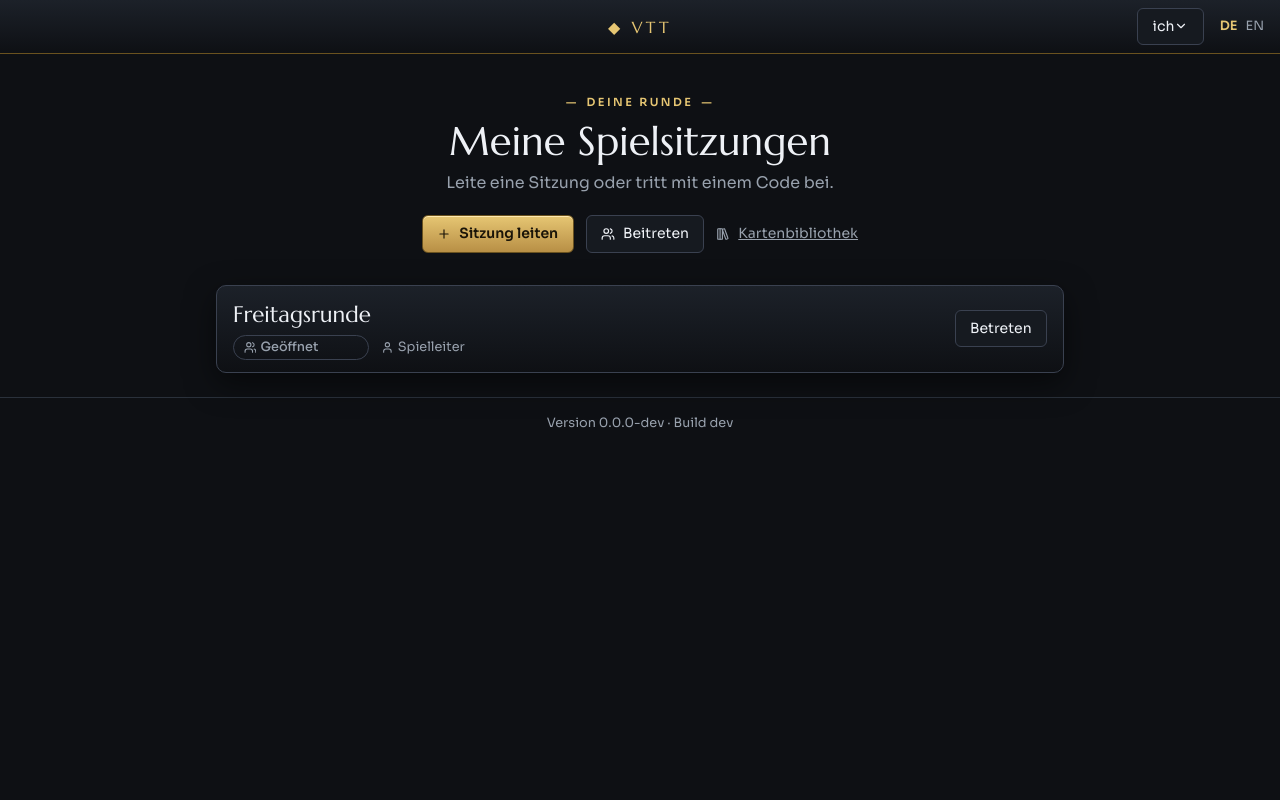
Test: Bereich markieren sammelt die Auswahl
Expected: the heading "Freitagsrunde" is shown, top-left (233, 300), bottom-right (371, 328)
Step 1. Click the button "Betreten" → [1001, 328], box top-left (955, 310), bottom-right (1047, 347)
(page scrolled)
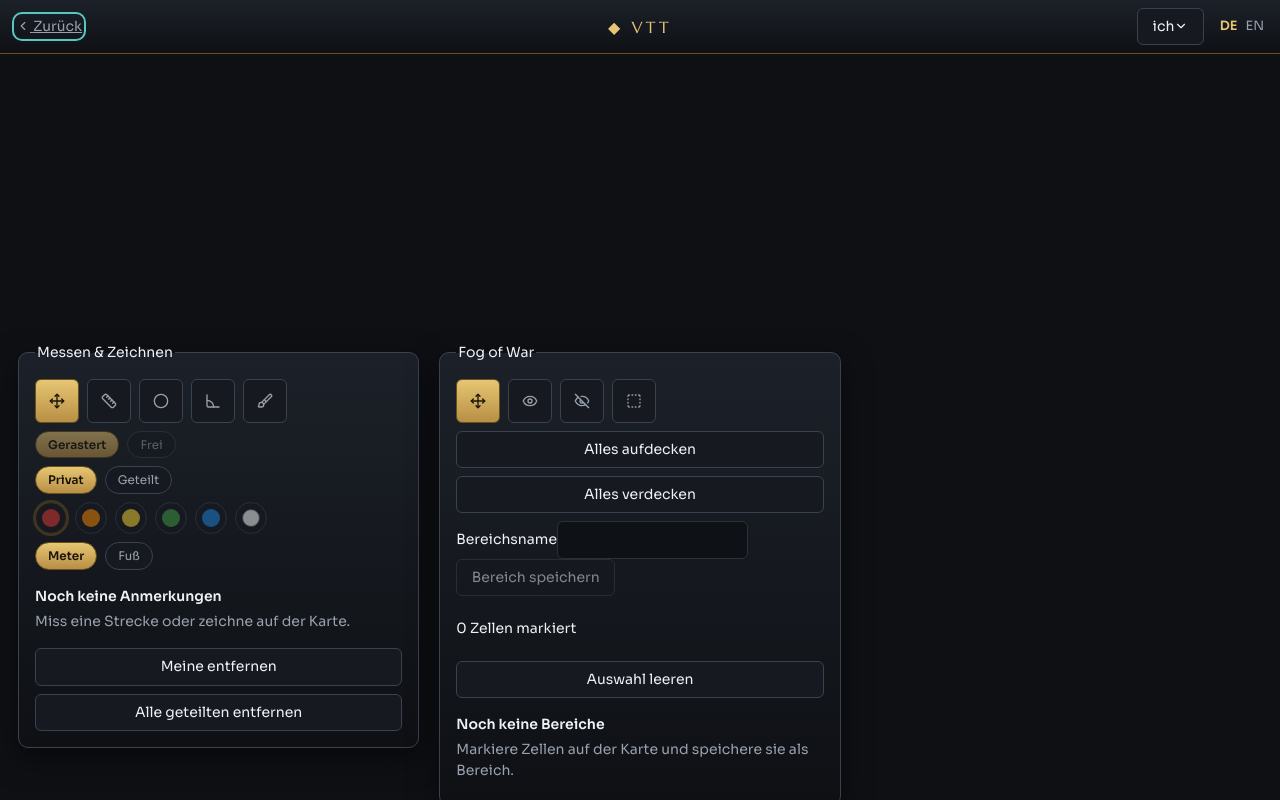
Step 2. Click the button named "Bereich markieren" → [634, 401], box top-left (612, 379), bottom-right (656, 423)
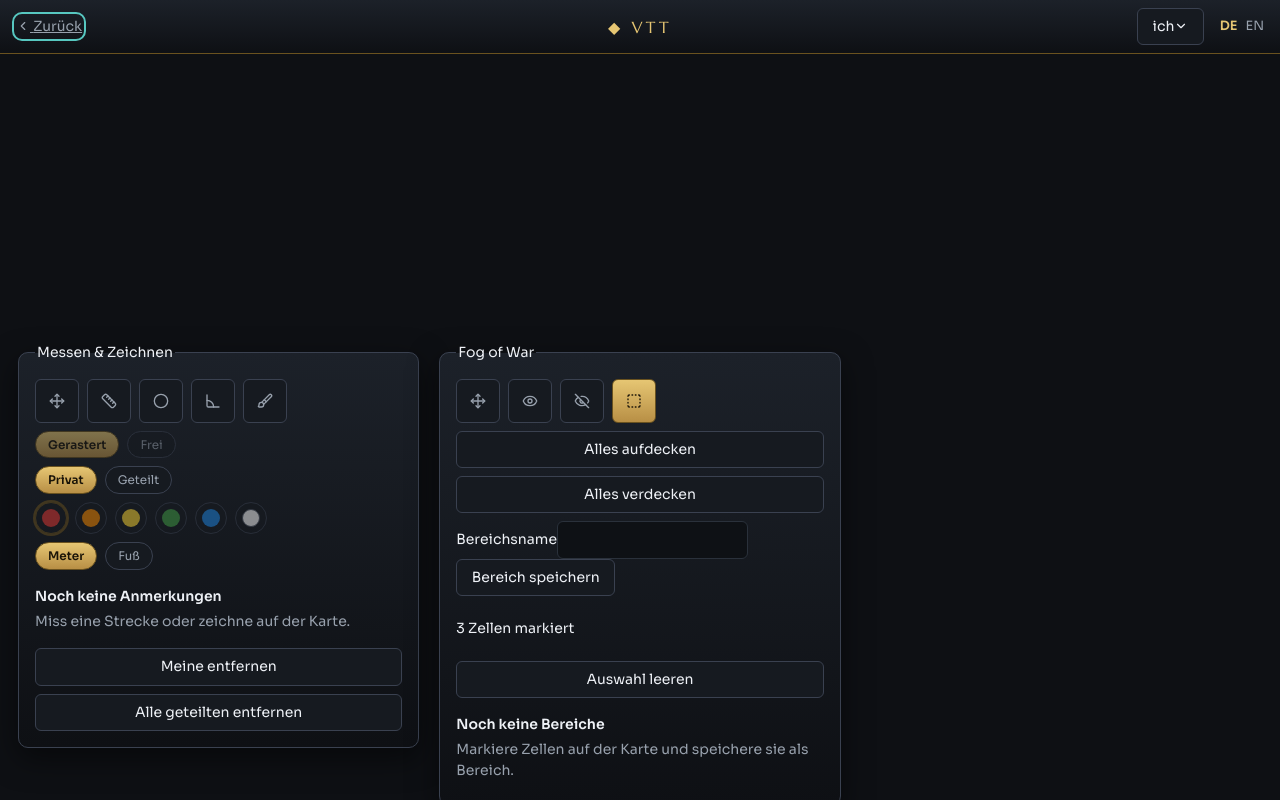
Expected: the text "3 Zellen markiert" is shown, top-left (456, 619), bottom-right (574, 637)
Expected: the button "Bereich speichern" is enabled, top-left (456, 559), bottom-right (615, 596)
